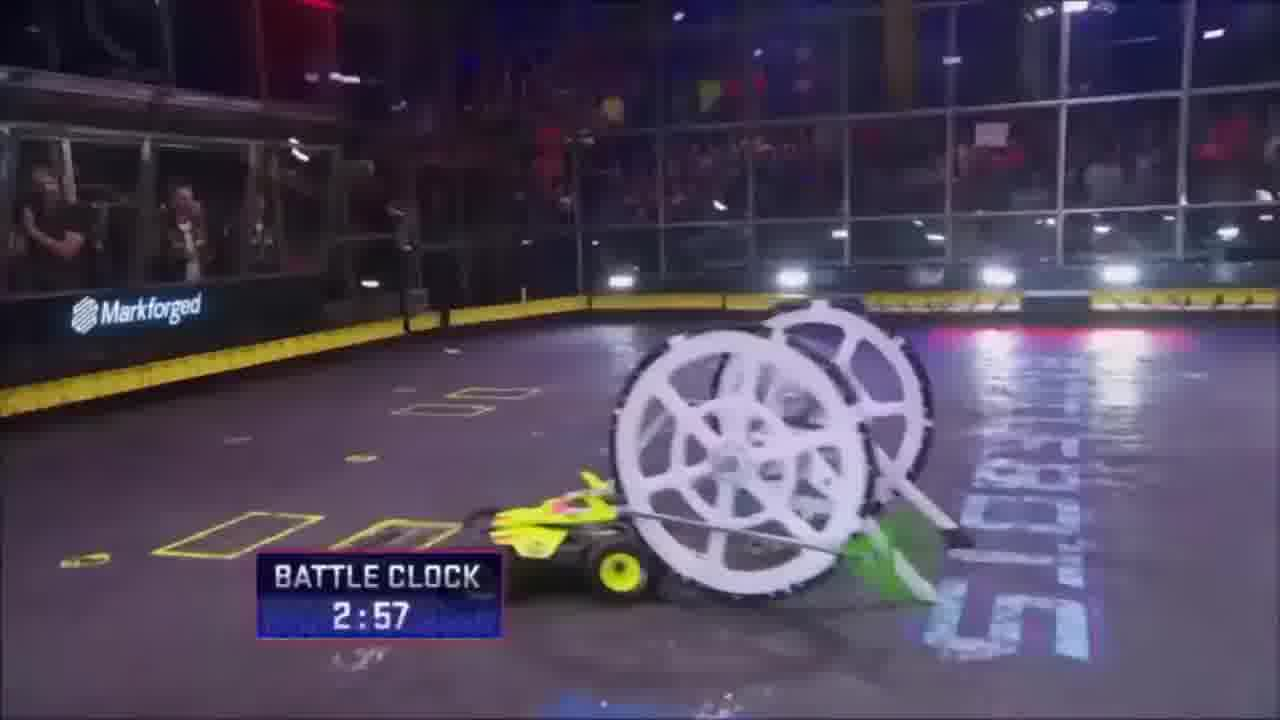combatbot: (608, 297, 935, 604), (458, 465, 659, 606)
